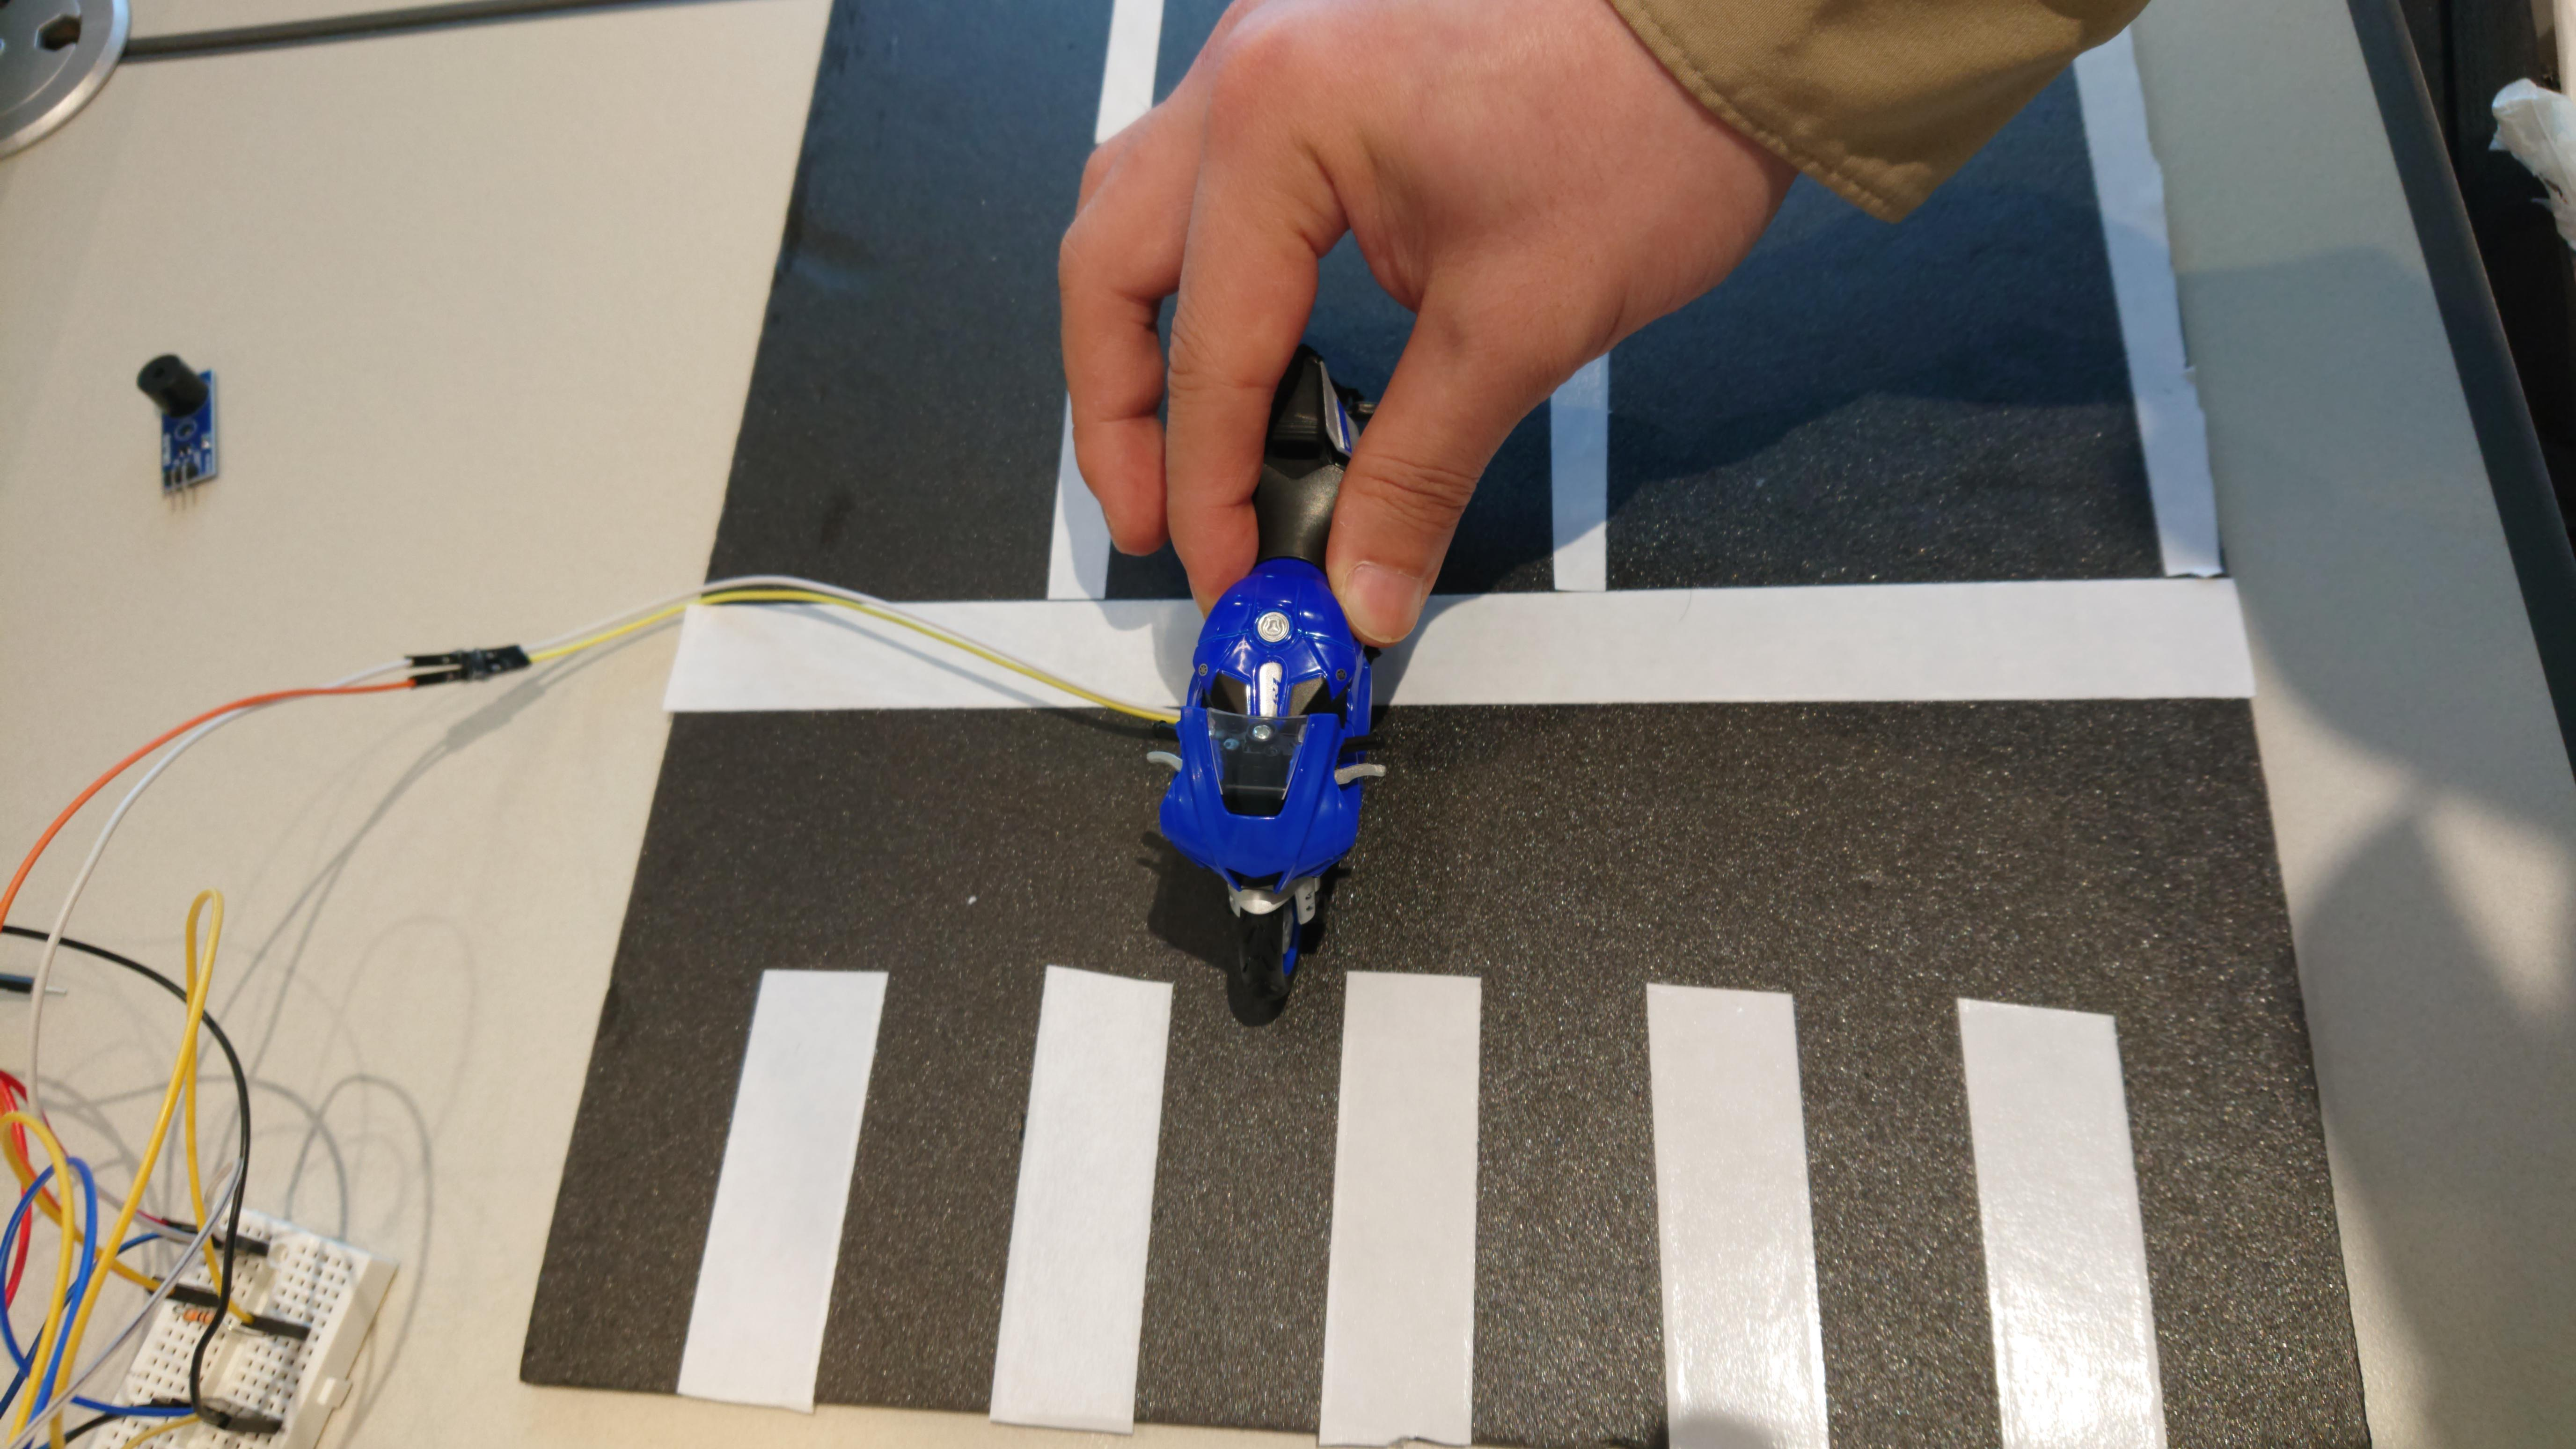Motorcycle: (1135, 309, 1413, 1032)
